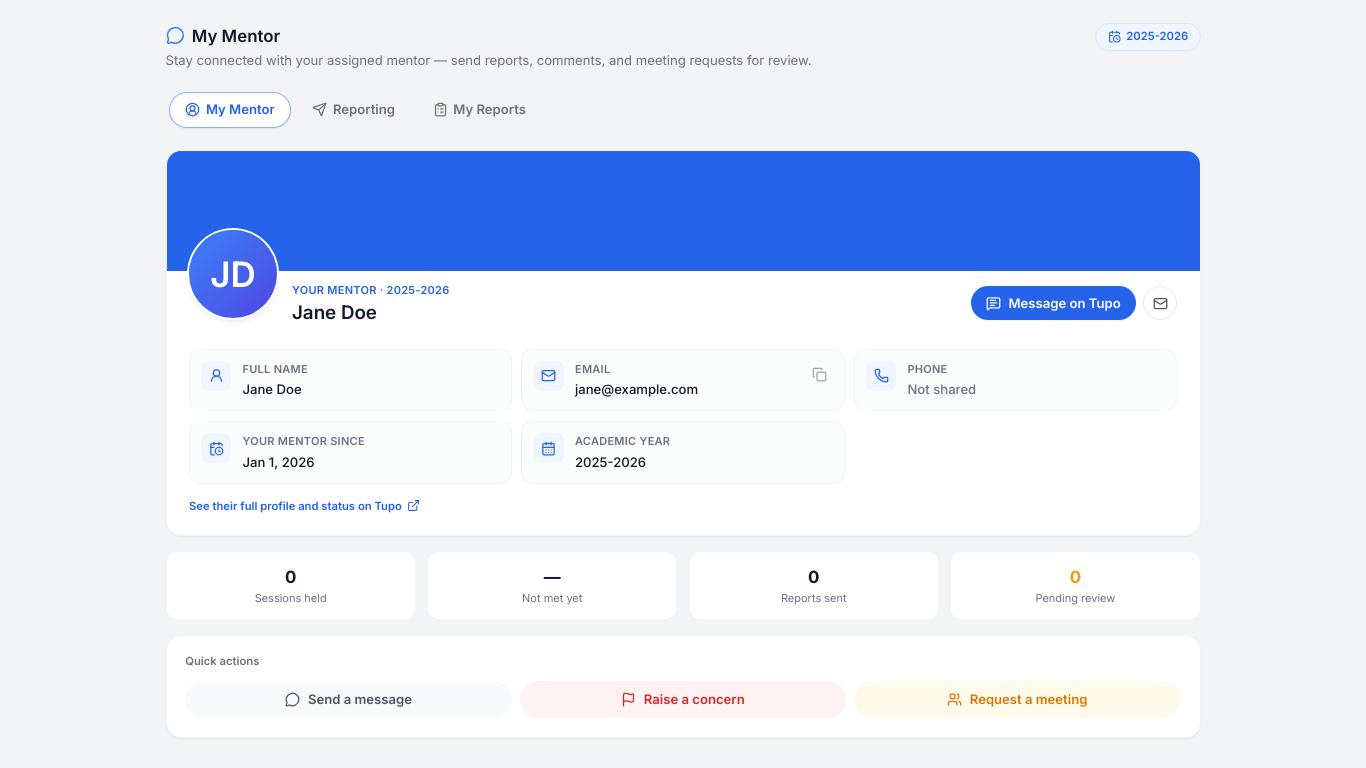
Test: MyMentor — student check-in submission › shows the empty-history state when the student has no prior reports
Click the button "My Reports".
click(479, 110)  # box left=417, top=92, right=542, bottom=128
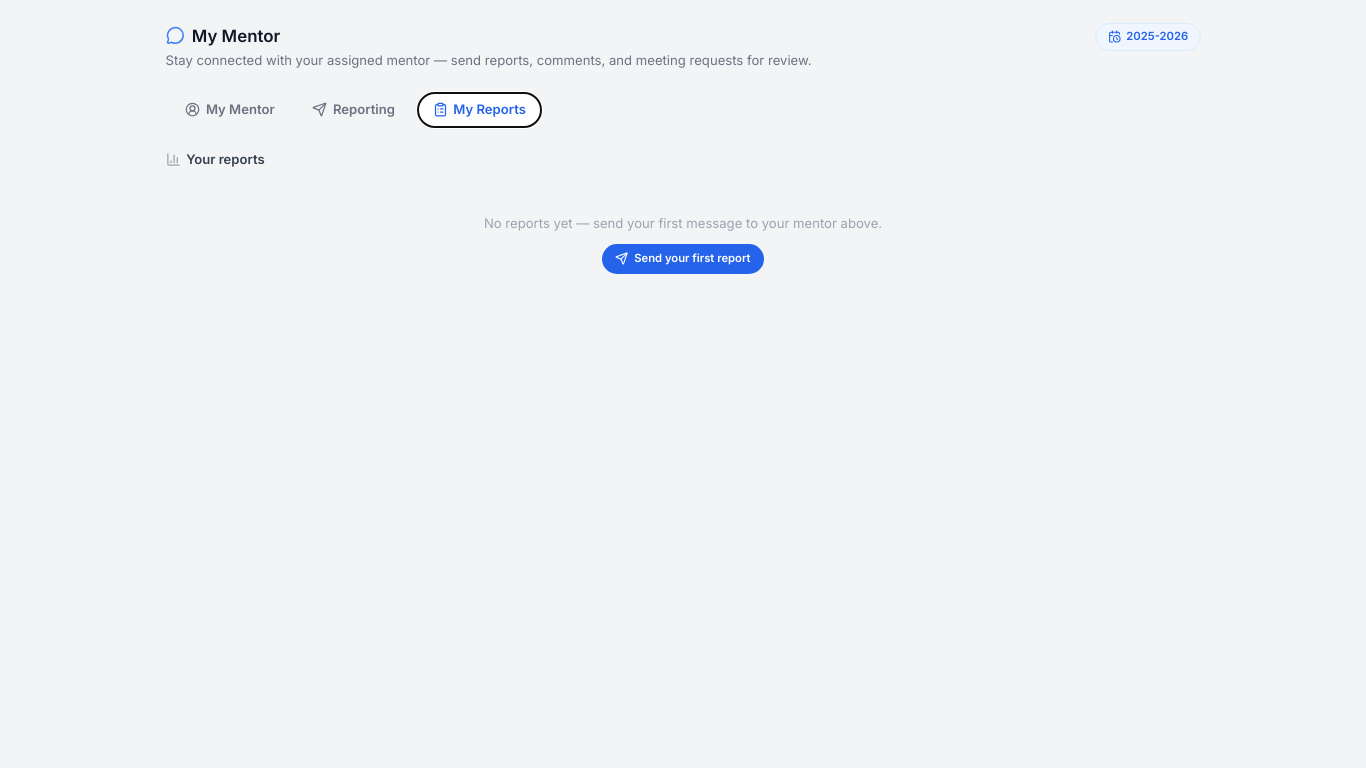
Expected: the text "No reports yet" is shown, left=484, top=215, right=882, bottom=231
